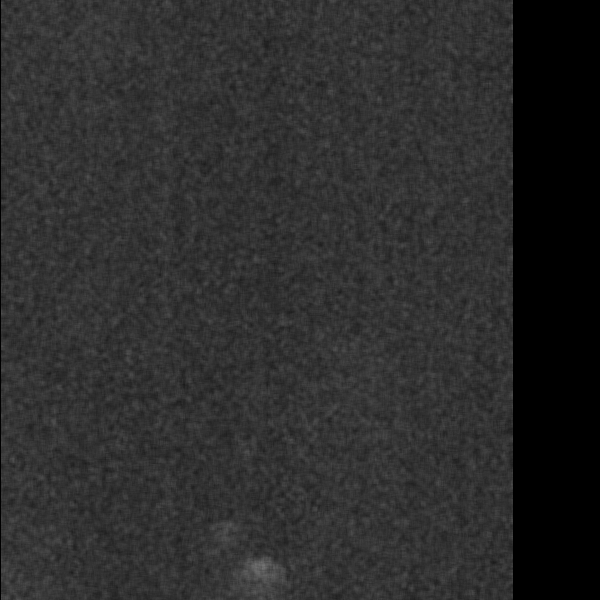spark: (236, 549, 285, 599)
